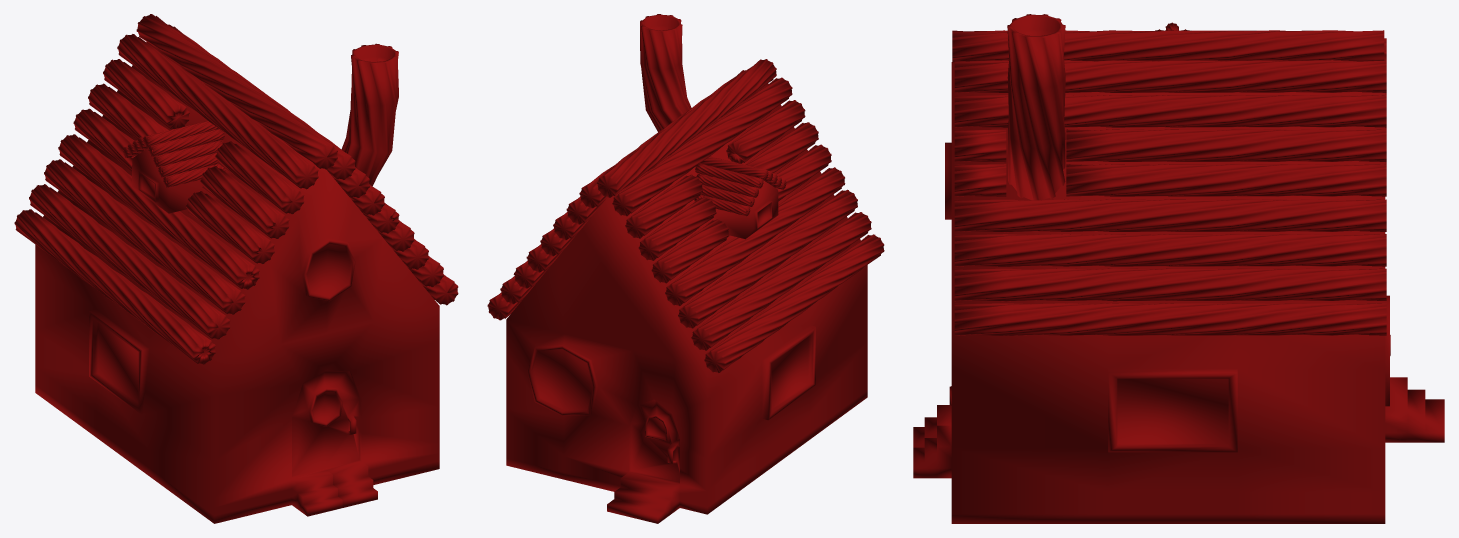
The model's file is Licorice Hut.obj.
3 views of the same model, side by side, from view 1: azimuth 30°, elevation 25°; view 2: azimuth 150°, elevation 25°; view 3: azimuth 270°, elevation 25° (orthographic). The views are drawn at different scales.
Visible parts, largest first — view 1: Licorice_Hut; view 2: Licorice_Hut; view 3: Licorice_Hut.
Part boxes in pixels (x1,y1,x2,y2): Licorice_Hut: [14, 14, 458, 523]; Licorice_Hut: [487, 14, 884, 523]; Licorice_Hut: [913, 14, 1444, 523].
Bounding box in the file's own units: 49.16 × 69.99 × 70.14.
